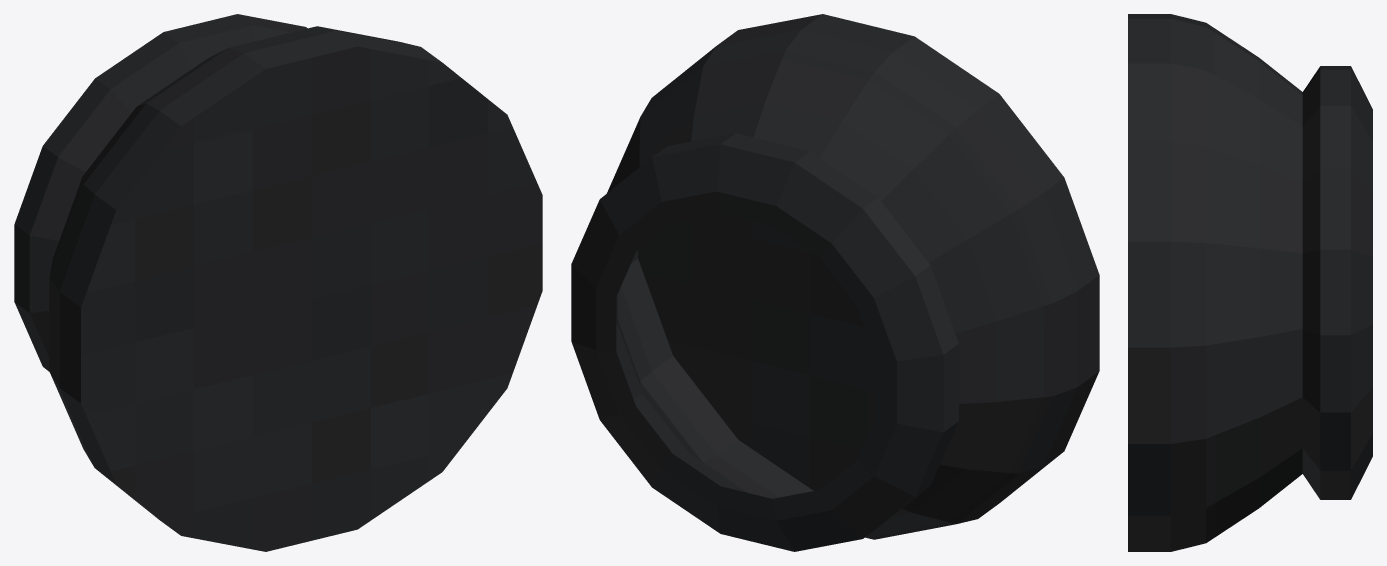
The model's file is decopole_labroadwayrose_tenon_s.obj.
3 views of the same model, side by side, from view 1: azimuth 30°, elevation 25°; view 2: azimuth 150°, elevation 25°; view 3: azimuth 270°, elevation 25° (orthographic).
Visible parts, largest first — view 1: decopole_labroadwayrose_tenon_s; view 2: decopole_labroadwayrose_tenon_s; view 3: decopole_labroadwayrose_tenon_s.
Part boxes in pixels (left/top/right/bottom): decopole_labroadwayrose_tenon_s: left=14, top=14, right=542, bottom=551; decopole_labroadwayrose_tenon_s: left=571, top=14, right=1099, bottom=551; decopole_labroadwayrose_tenon_s: left=1128, top=14, right=1372, bottom=551.
Bounding box in the file's own units: 0.7601 × 0.7601 × 0.3487.
